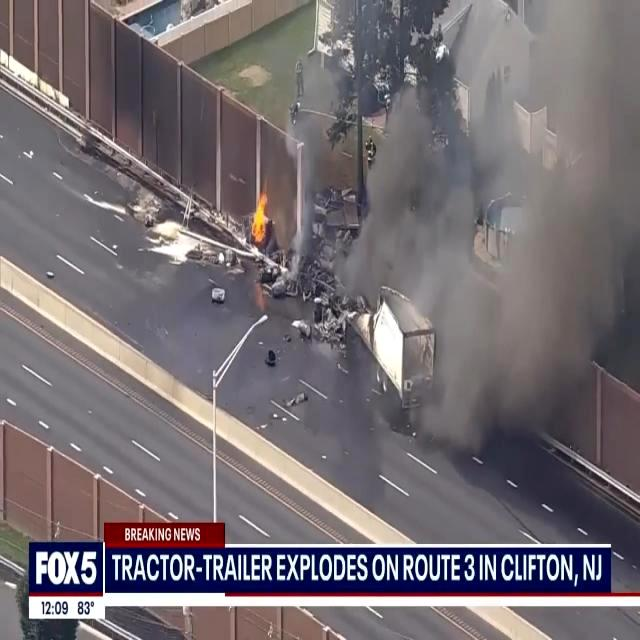fire: (247, 186, 271, 247)
